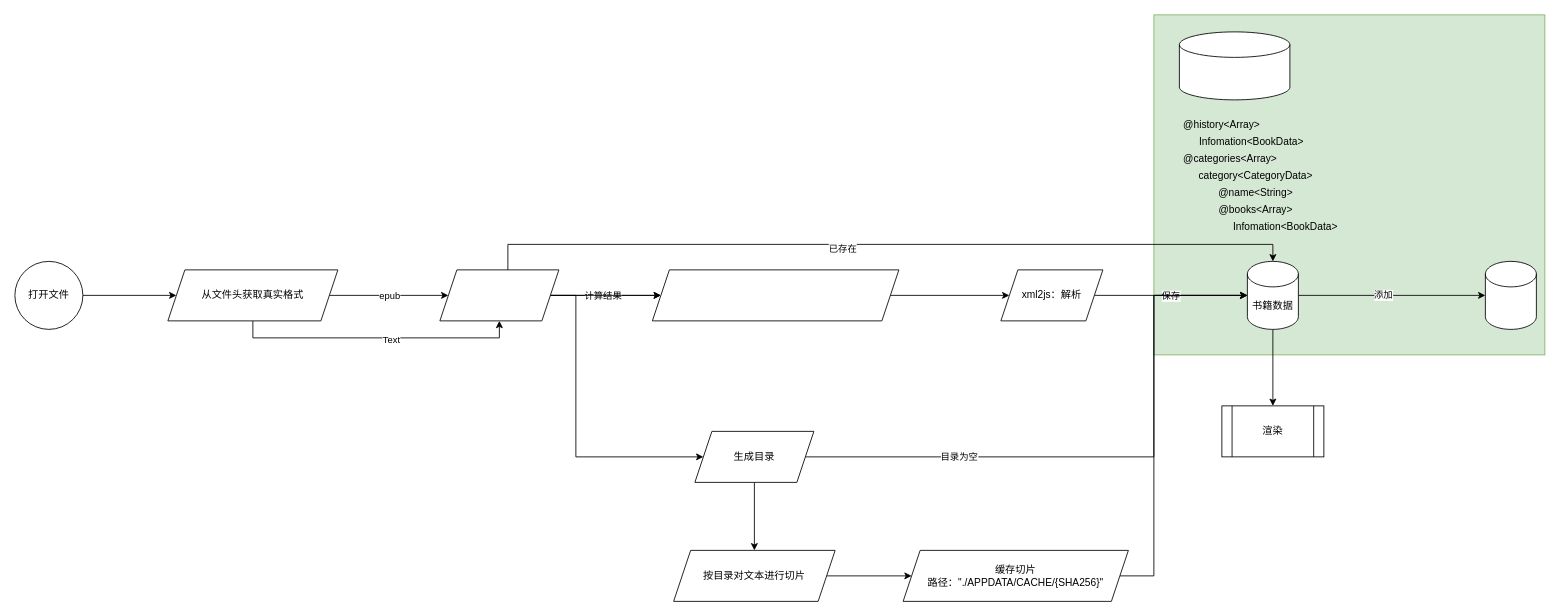
Image size: 1560x616. Some labels were removed from this diagram. Each missing label, with the centre of its shape:
7z：解压 路径："./APPDATA/CACHE/{SHA256}": the point at 775,295
7z：计算 / SHA256: the point at 499,295
library schema => JSON: the point at 1234,65
最近阅读: the point at 1510,295
